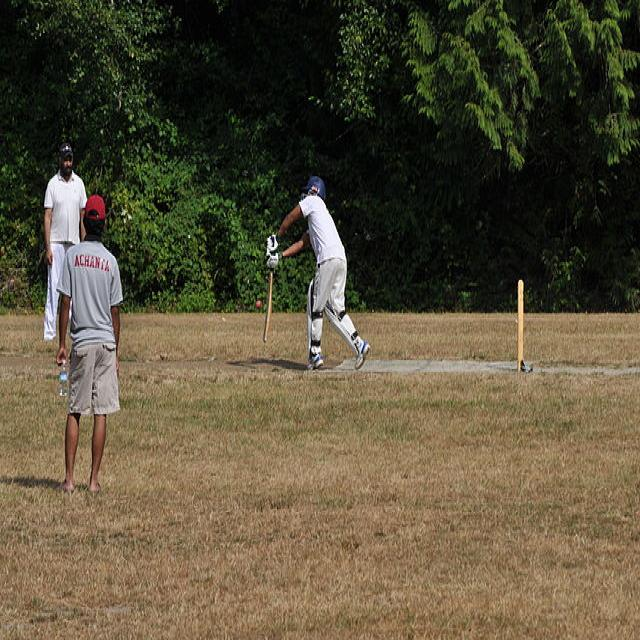stump: (516, 280, 525, 366)
